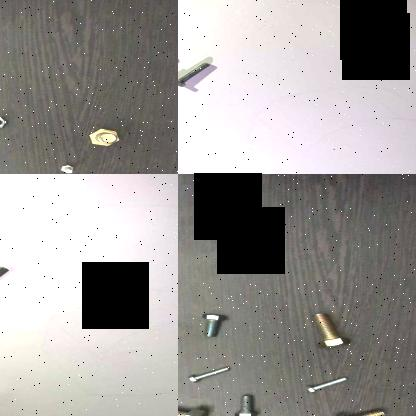Bolts: (308, 310, 352, 351), (178, 59, 219, 89), (184, 364, 234, 384), (193, 312, 229, 338), (86, 127, 124, 148), (306, 376, 346, 394), (232, 394, 262, 416), (331, 408, 387, 416), (178, 401, 206, 416), (0, 265, 14, 293), (55, 163, 78, 174), (0, 111, 11, 131)
